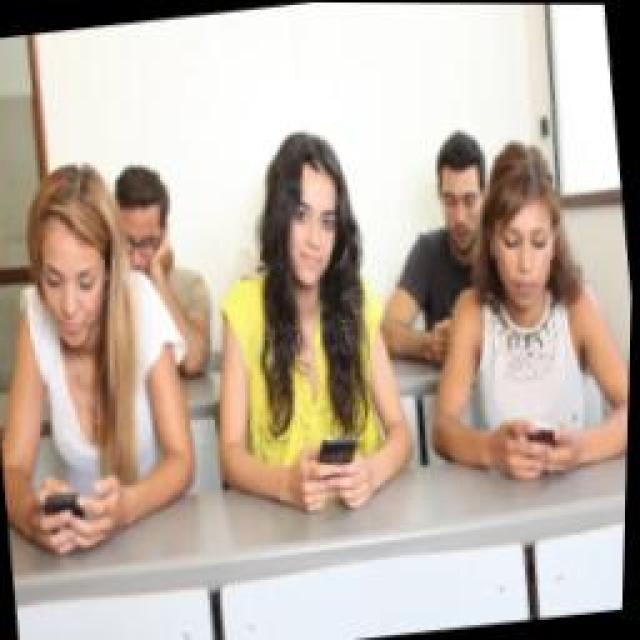phone: (188, 122, 430, 520), (398, 130, 638, 485)
